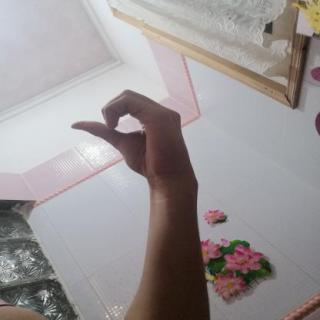WAW: (59, 82, 206, 188)
